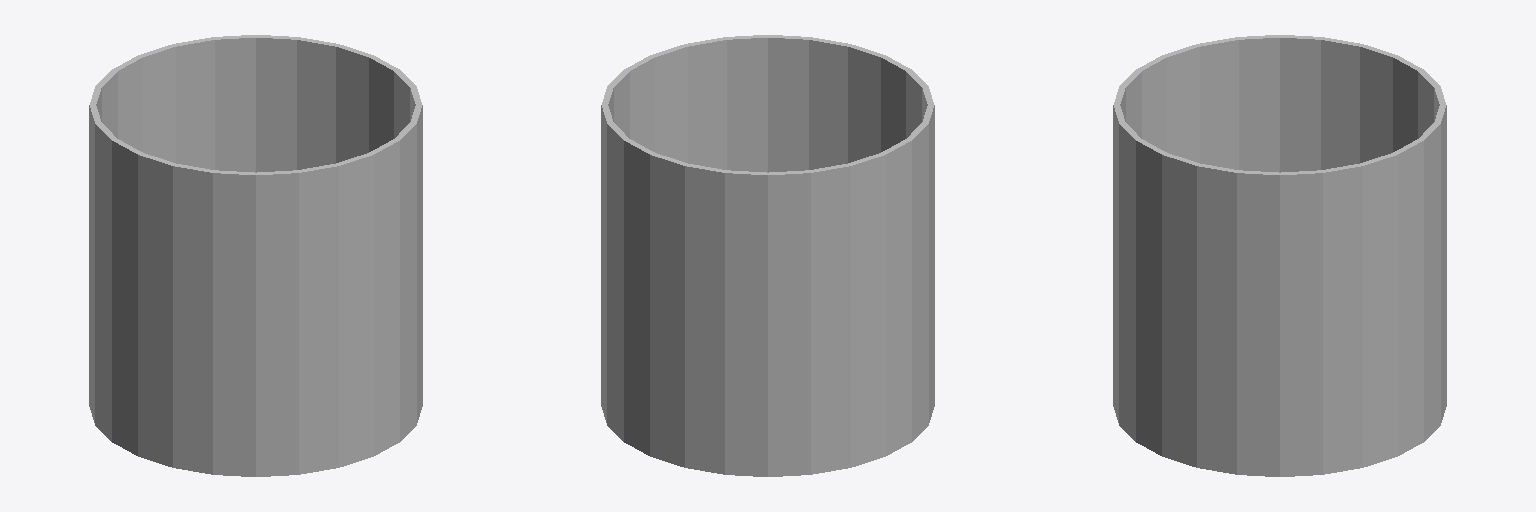
File: open_cylinder_collider.obj
The picture shows the model from 3 angles: view 1: azimuth 30°, elevation 25°; view 2: azimuth 150°, elevation 25°; view 3: azimuth 270°, elevation 25°; orthographic projection.
Visible parts, largest first — view 1: Cylinder1_cut3, Cylinder1_cut4, Cylinder1_cut2, Cylinder1_cut7, Cylinder1, Cylinder1_cut5, Cylinder1_cut6, Cylinder1_cut8; view 2: Cylinder1_cut6, Cylinder1_cut5, Cylinder1_cut7, Cylinder1_cut2, Cylinder1_cut8, Cylinder1_cut4, Cylinder1_cut3, Cylinder1; view 3: Cylinder1_cut8, Cylinder1, Cylinder1_cut7, Cylinder1_cut2, Cylinder1_cut5, Cylinder1_cut4, Cylinder1_cut6, Cylinder1_cut3.
Boxes of the visible parts, x1=… form: Cylinder1_cut3: x1=213, y1=164, x2=338, y2=476; Cylinder1_cut4: x1=112, y1=139, x2=214, y2=474; Cylinder1_cut2: x1=336, y1=123, x2=416, y2=467; Cylinder1_cut7: x1=173, y1=35, x2=298, y2=172; Cylinder1: x1=297, y1=37, x2=399, y2=169; Cylinder1_cut5: x1=89, y1=87, x2=116, y2=441; Cylinder1_cut6: x1=95, y1=44, x2=175, y2=162; Cylinder1_cut8: x1=394, y1=70, x2=422, y2=422; Cylinder1_cut6: x1=685, y1=164, x2=810, y2=476; Cylinder1_cut5: x1=809, y1=139, x2=911, y2=474; Cylinder1_cut7: x1=607, y1=123, x2=687, y2=467; Cylinder1_cut2: x1=725, y1=35, x2=850, y2=172; Cylinder1_cut8: x1=624, y1=37, x2=726, y2=169; Cylinder1_cut4: x1=907, y1=87, x2=934, y2=441; Cylinder1_cut3: x1=848, y1=44, x2=928, y2=162; Cylinder1: x1=601, y1=70, x2=629, y2=422; Cylinder1_cut8: x1=1162, y1=153, x2=1279, y2=476; Cylinder1: x1=1280, y1=153, x2=1397, y2=476; Cylinder1_cut7: x1=1393, y1=105, x2=1446, y2=455; Cylinder1_cut2: x1=1113, y1=105, x2=1166, y2=455; Cylinder1_cut5: x1=1280, y1=35, x2=1396, y2=172; Cylinder1_cut4: x1=1163, y1=35, x2=1279, y2=172; Cylinder1_cut6: x1=1393, y1=55, x2=1445, y2=151; Cylinder1_cut3: x1=1114, y1=55, x2=1166, y2=151.
Bounding box in the file's own units: 1 × 1 × 1.